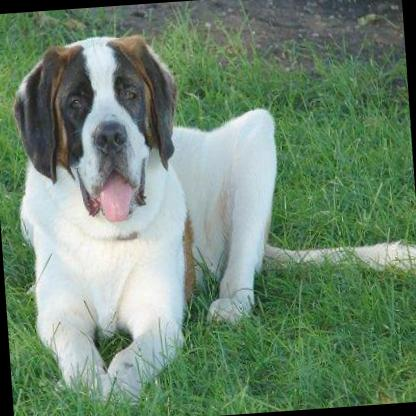Saint_Bernard: (1, 11, 416, 415)
